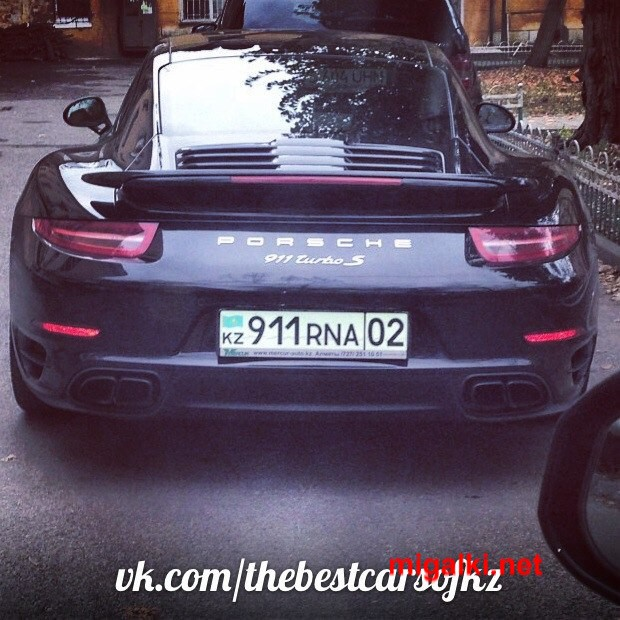license_plate: (219, 307, 413, 361)
